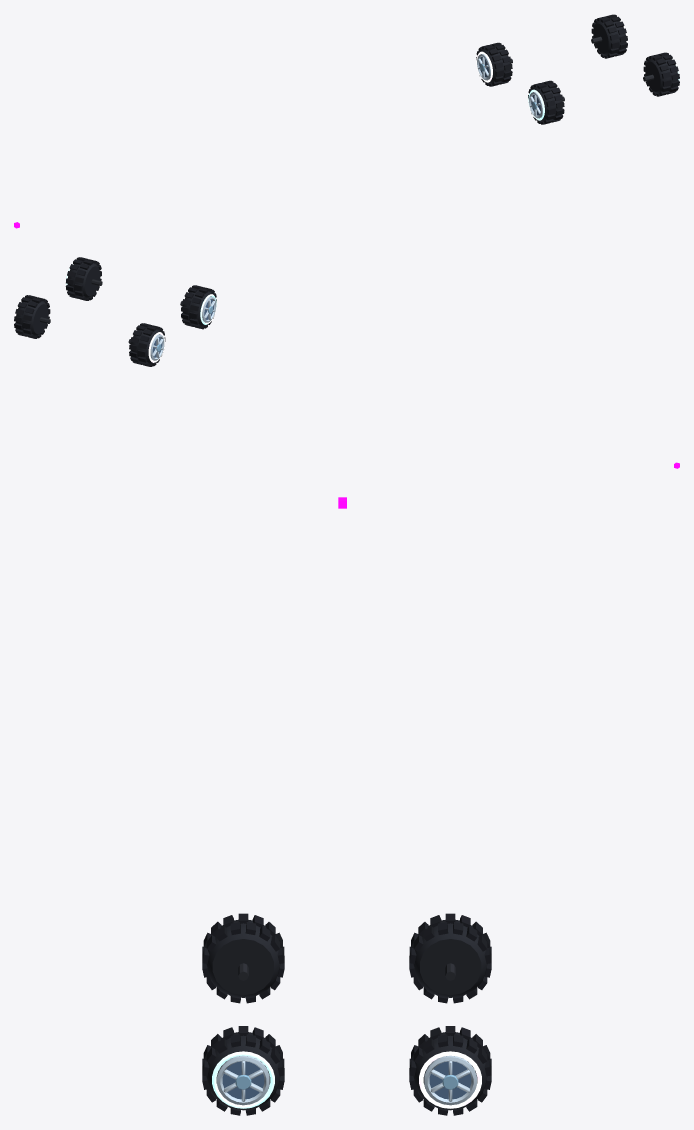
File: Gears_P.fbx
3 views of the same model, one above another, from view 1: azimuth 30°, elevation 25°; view 2: azimuth 150°, elevation 25°; view 3: azimuth 270°, elevation 25° (orthographic). The views are drawn at different scales.
Visible parts, largest first — view 1: GearAuroraWheels__Knobs__1B1D24SP, GearAuroraWheels__Tire__23262ESP; view 2: GearAuroraWheels__Knobs__1B1D24SP, GearAuroraWheels__Tire__23262ESP; view 3: GearAuroraWheels__Tire__23262ESP, GearAuroraWheels__Knobs__1B1D24SP, GearAuroraWheels__Rim__D6ECFFME, GearAuroraWheels__Recess__5E7FA8ME.
Part boxes in pixels (x1,y1,x2,y2): GearAuroraWheels__Knobs__1B1D24SP: (476, 14, 679, 124); GearAuroraWheels__Tire__23262ESP: (480, 18, 678, 121); GearAuroraWheels__Knobs__1B1D24SP: (14, 257, 216, 366); GearAuroraWheels__Tire__23262ESP: (15, 261, 212, 364); GearAuroraWheels__Tire__23262ESP: (206, 919, 487, 1110); GearAuroraWheels__Knobs__1B1D24SP: (202, 913, 491, 1115); GearAuroraWheels__Rim__D6ECFFME: (217, 1055, 476, 1105); GearAuroraWheels__Recess__5E7FA8ME: (222, 1061, 471, 1099).
Size of the model in its own units: 33.84 by 1.95 by 6.71.
